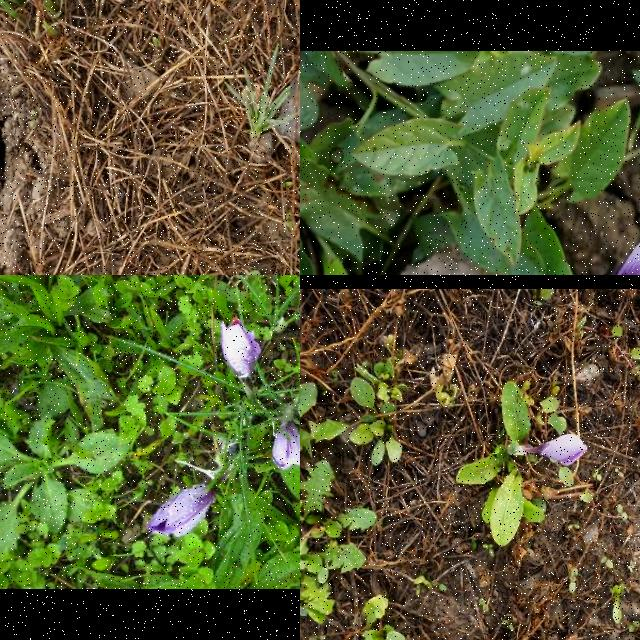flower: (142, 485, 216, 539), (219, 314, 263, 380), (535, 434, 589, 466), (271, 422, 300, 472)
